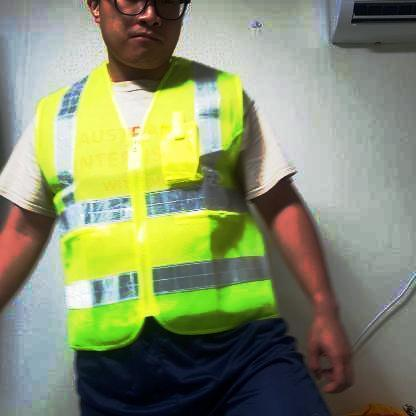vest: (36, 64, 280, 351)
